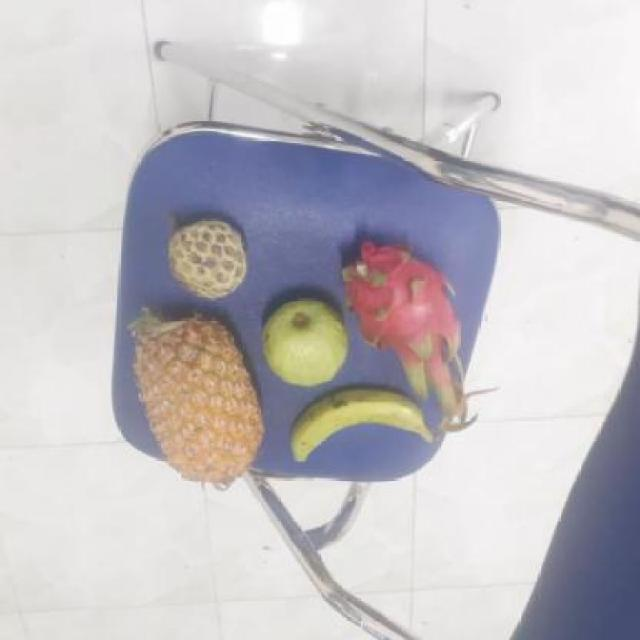dragon fruit: (335, 243, 460, 392)
guava: (256, 296, 350, 386)
pineapple: (127, 305, 262, 481)
sugar apple: (158, 218, 244, 298)
